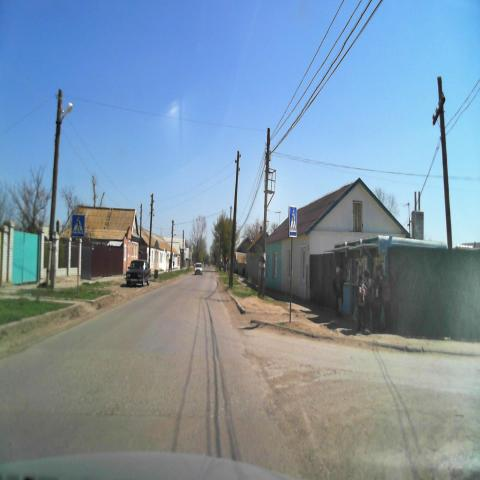5_19_1: (71, 214, 84, 237), (289, 206, 297, 237)
